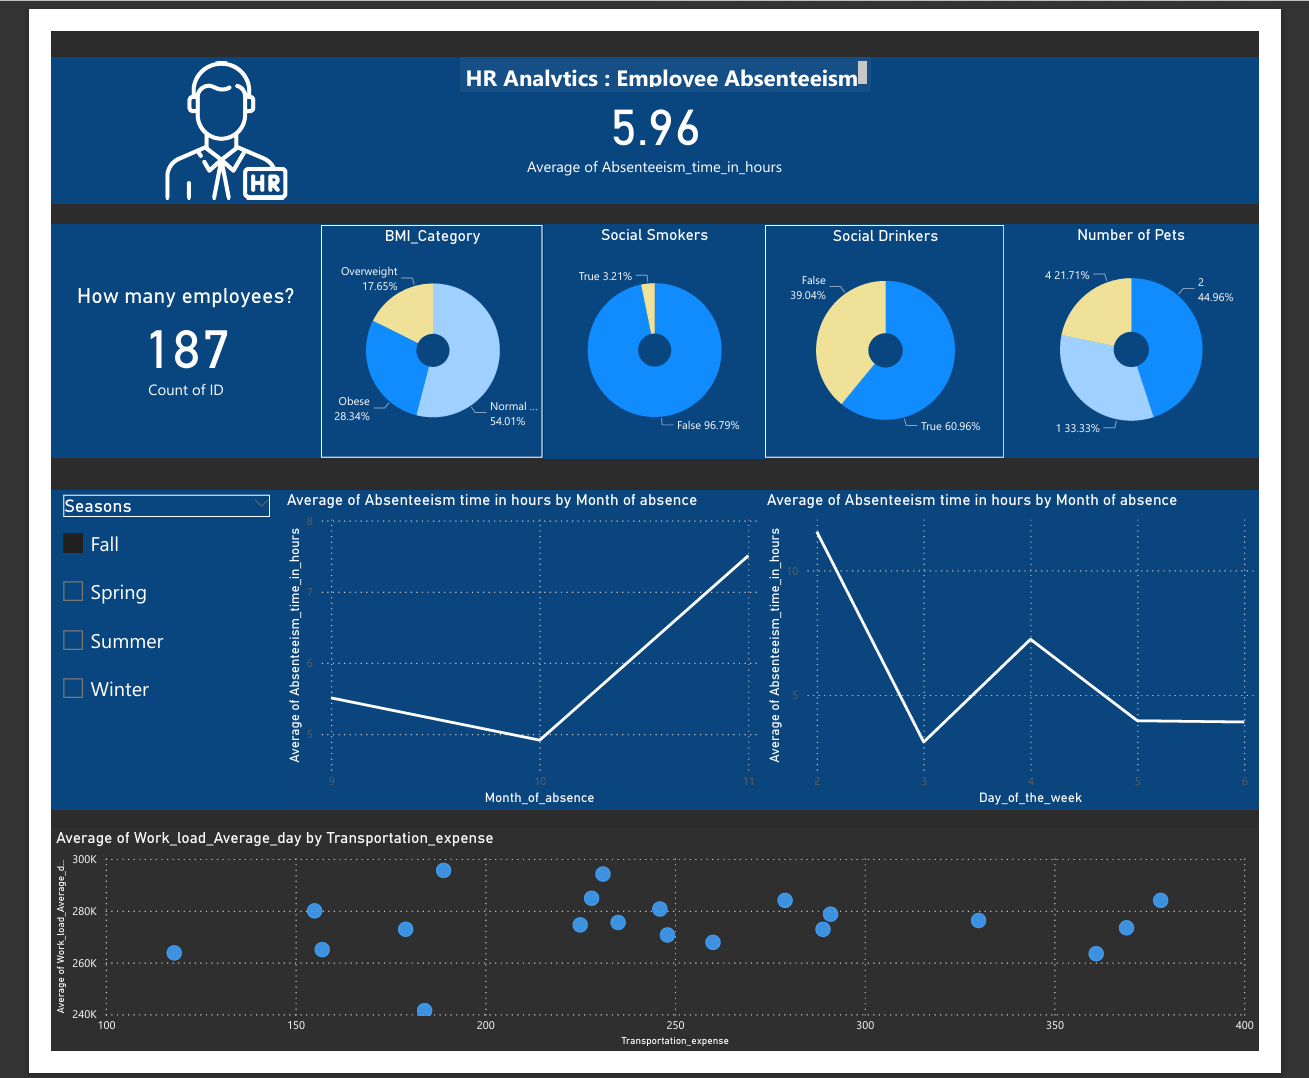

The dashboard page shown, as its layout file describes it:
{"tool":"powerbi","page":{"name":"Page 1","canvas":[1303,1100],"ordinal":0},"visuals":[{"type":"donutChart","title":"BMI_Category","fields":{"Category":["manipulated Absenteeism_at_work.BMI_Category"],"Y":["CountNonNull(manipulated Absenteeism_at_work.BMI_Category)"]},"box":[290.7,209.3,239.5,251.2],"z":0},{"type":"card","title":"HR Analytics","fields":{"Values":["Avg(manipulated Absenteeism_at_work.Absenteeism_time_in_hours)"]},"box":[0,27.9,1302.3,158.1],"z":1000},{"type":"donutChart","title":"Social Drinkers","fields":{"Category":["manipulated Absenteeism_at_work.Social_drinker"],"Y":["CountNonNull(manipulated Absenteeism_at_work.Social_drinker)"]},"box":[769.8,209.3,258.1,251.2],"z":2000},{"type":"donutChart","title":"Social Smokers","fields":{"Category":["manipulated Absenteeism_at_work.Social_smoker"],"Y":["CountNonNull(manipulated Absenteeism_at_work.Social_smoker)"]},"box":[531.8,208.8,238,252.5],"z":3000},{"type":"donutChart","title":"Number of Pets","fields":{"Category":["manipulated Absenteeism_at_work.Pet"],"Y":["Sum(manipulated Absenteeism_at_work.Pet)"]},"box":[1027.9,209.3,274.4,251.2],"z":4000},{"type":"card","title":"How many employees?","fields":{"Values":["CountNonNull(manipulated Absenteeism_at_work.ID)"]},"box":[0,209.3,290.7,251.2],"z":5000},{"type":"image","box":[86,27.9,204.7,158.1],"z":6000},{"type":"lineChart","title":"Average of Absenteeism time in hours by Month of absence","fields":{"Y":["Avg(manipulated Absenteeism_at_work.Absenteeism_time_in_hours)"],"Category":["manipulated Absenteeism_at_work.Month_of_absence"]},"box":[248.8,495.3,518.6,344.2],"z":7000},{"type":"lineChart","title":"Average of Absenteeism time in hours by Month of absence","fields":{"Y":["Avg(manipulated Absenteeism_at_work.Absenteeism_time_in_hours)"],"Category":["manipulated Absenteeism_at_work.Day_of_the_week"]},"box":[767.4,495.3,534.9,344.2],"z":8000},{"type":"slicer","fields":{"Values":["manipulated Absenteeism_at_work.Seasons"]},"box":[0,495.3,248.8,344.2],"z":9000},{"type":"card","title":"How many employees?","fields":{"Values":["CountNonNull(manipulated Absenteeism_at_work.ID)"]},"box":[0,272.1,290.7,125.6],"z":10000},{"type":"textbox","box":[441.9,27.9,441.9,37.2],"z":11000},{"type":"scatterChart","fields":{"X":["manipulated Absenteeism_at_work.Transportation_expense"],"Y":["Avg(manipulated Absenteeism_at_work.Work_load_Average_day)"]},"box":[0,860.4,1302.1,239.6],"z":12000}]}

Visuals, with their boxes in screenshot pixels (x1, y1, x2, y2), scaled from the page's 1303x1100 canvas onto the 1309x1078 screenshot:
"BMI_Category" donutChart: region(292, 205, 533, 451)
"HR Analytics" card: region(0, 27, 1308, 182)
"Social Drinkers" donutChart: region(773, 205, 1033, 451)
"Social Smokers" donutChart: region(534, 205, 773, 452)
"Number of Pets" donutChart: region(1033, 205, 1308, 451)
"How many employees?" card: region(0, 205, 292, 451)
image: region(86, 27, 292, 182)
"Average of Absenteeism time in hours by Month of absence" lineChart: region(250, 485, 771, 823)
"Average of Absenteeism time in hours by Month of absence" lineChart: region(771, 485, 1308, 823)
slicer - manipulated Absenteeism_at_work.Seasons: region(0, 485, 250, 823)
"How many employees?" card: region(0, 267, 292, 390)
textbox: region(444, 27, 888, 64)
scatterChart - manipulated Absenteeism_at_work.Transportation_expense x Avg(manipulated Absenteeism_at_work.Work_load_Average_day): region(0, 843, 1308, 1077)
